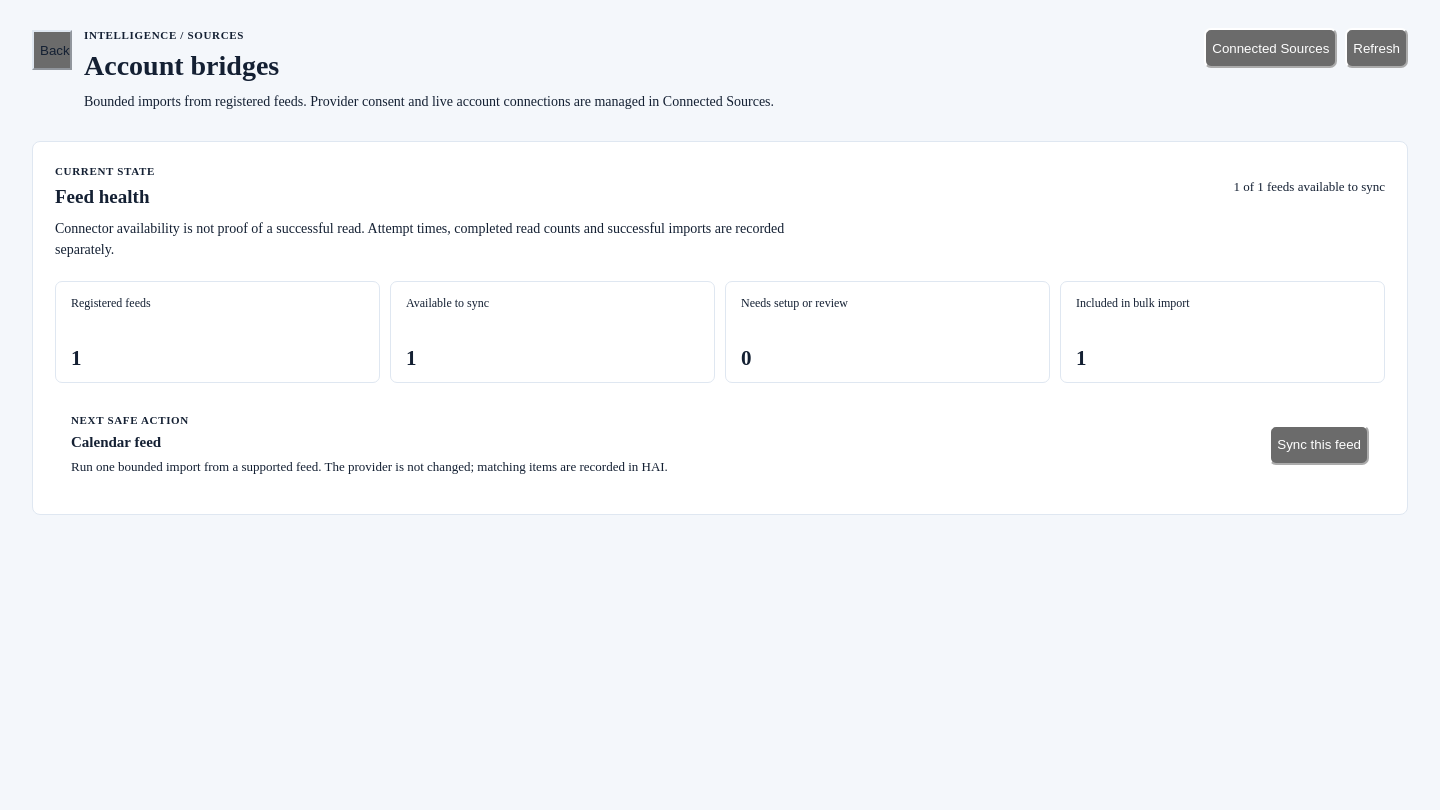
Test case: AccountBridgesComponent › runs only the single selected available feed from the Basic action
Click the button "Sync this feed". click: coordinates (1319, 445)
box: [1269,425,1369,465]
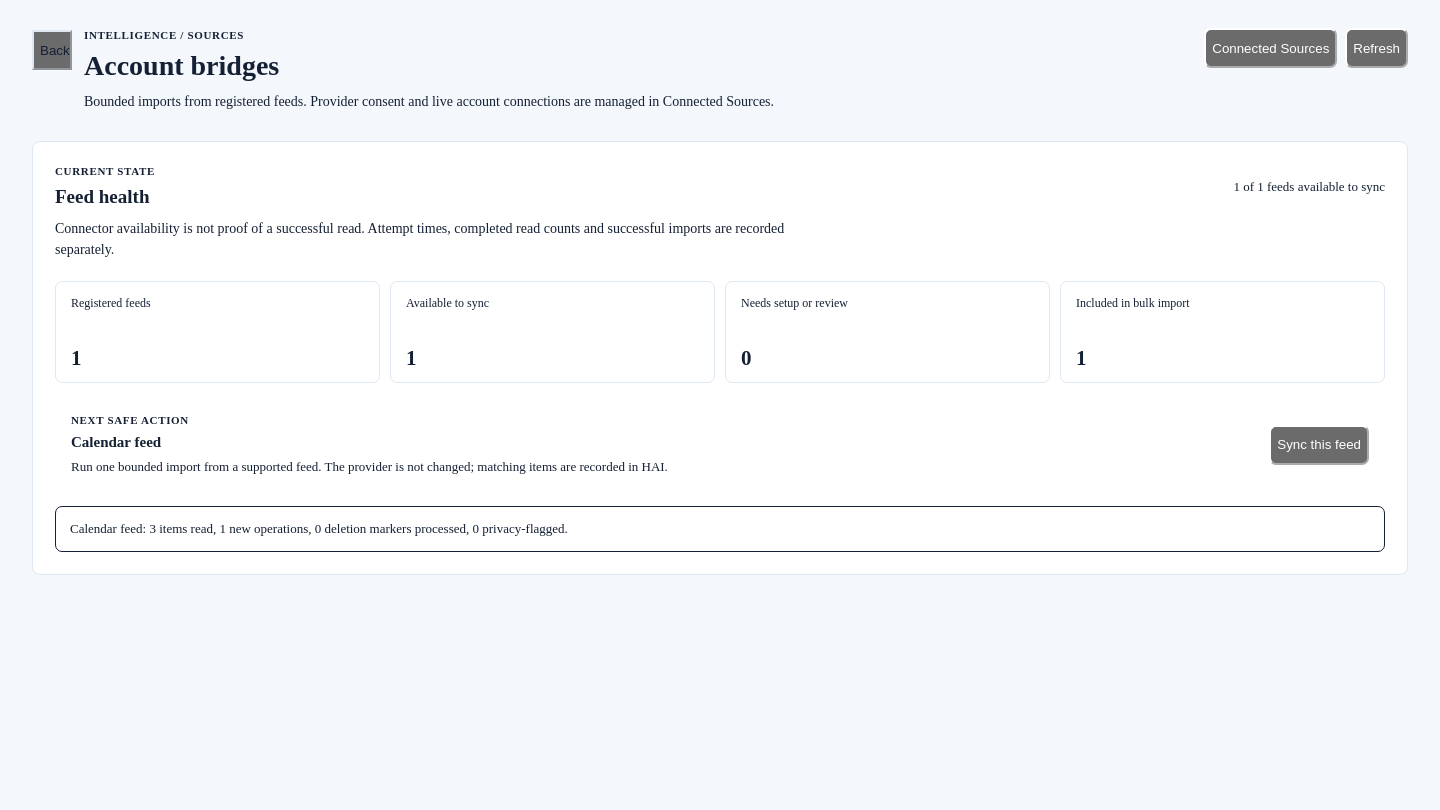
Result: the message with class "ab__feedback" shows "3 items read, 1 new operations" at [70,521,568,536]
